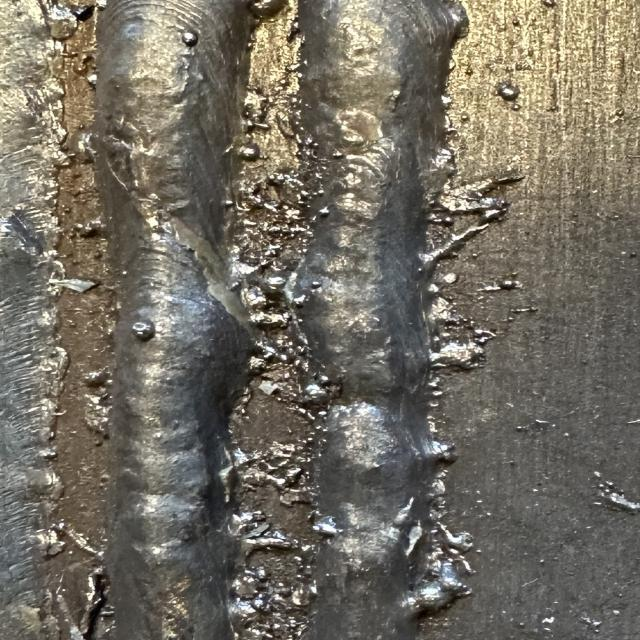Excess Reinforcement: (228, 510, 315, 640), (248, 330, 337, 407), (407, 522, 473, 616), (232, 246, 292, 331), (233, 444, 313, 506), (436, 175, 525, 221), (430, 318, 495, 369), (420, 224, 488, 270), (42, 0, 97, 40), (78, 566, 108, 639), (425, 141, 457, 202), (265, 171, 312, 209), (55, 522, 103, 559), (435, 0, 468, 44), (83, 388, 112, 438), (243, 86, 270, 131), (428, 296, 463, 326), (65, 128, 95, 163), (428, 469, 448, 521), (37, 525, 65, 556), (73, 216, 105, 238), (48, 279, 97, 292), (432, 440, 458, 464), (428, 375, 445, 404), (442, 94, 452, 108), (448, 59, 457, 71)
Spatters: (250, 0, 288, 19), (82, 366, 112, 388), (478, 279, 522, 291), (132, 320, 155, 341), (312, 516, 338, 534), (238, 141, 260, 161), (497, 82, 520, 101), (428, 212, 455, 226), (182, 31, 198, 46), (510, 306, 538, 314), (610, 109, 625, 122), (442, 272, 458, 284), (293, 295, 307, 307), (598, 481, 613, 492), (318, 206, 330, 218), (542, 0, 557, 8), (592, 621, 602, 632), (310, 280, 322, 289), (542, 616, 555, 624), (507, 271, 518, 280), (332, 150, 343, 159), (512, 102, 522, 111), (512, 18, 522, 26), (460, 114, 470, 122), (465, 66, 473, 75), (515, 426, 527, 432), (428, 401, 438, 408), (582, 618, 593, 624), (628, 251, 637, 258), (612, 609, 620, 615), (538, 559, 545, 564), (487, 512, 492, 516), (475, 490, 480, 493), (618, 594, 623, 597)
